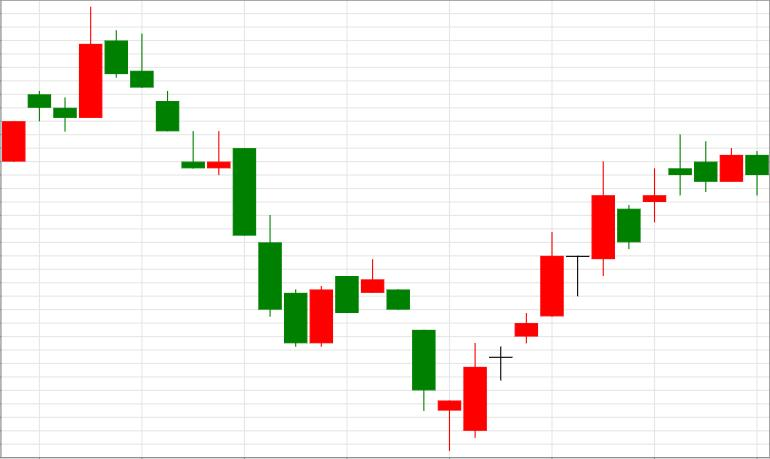shooting_star_fall: (105, 29, 332, 348)
